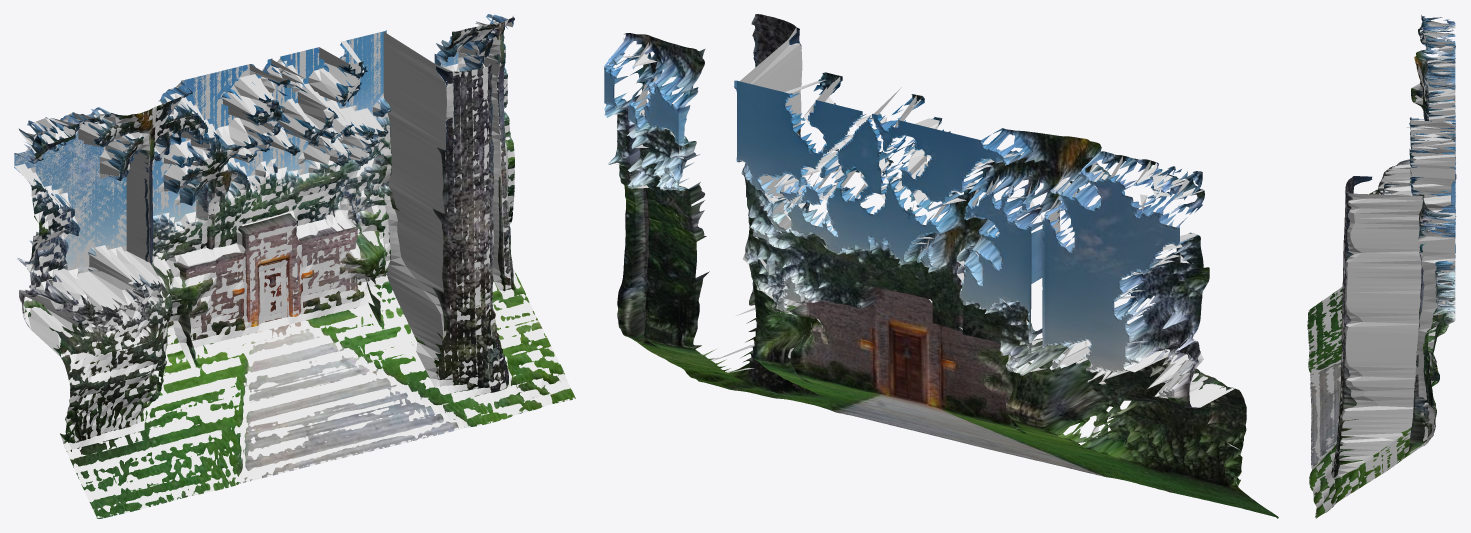
File: cenario.glb
3 views of the same model, side by side, from view 1: azimuth 30°, elevation 25°; view 2: azimuth 150°, elevation 25°; view 3: azimuth 270°, elevation 25° (orthographic). The views are drawn at different scales.
Visible parts, largest first — view 1: relevo, relevo_col; view 2: relevo, relevo_col; view 3: relevo_col, relevo.
Part boxes in pixels (x1,y1,x2,y2): relevo: (14,14,575,518); relevo_col: (14,16,574,518); relevo: (604,14,1278,518); relevo_col: (614,27,1239,485); relevo_col: (1307,14,1455,518); relevo: (1307,15,1456,518).
Bounding box in the file's own units: 12 × 8.01 × 3.64.
Materials: 1 (1 with a texture image).
